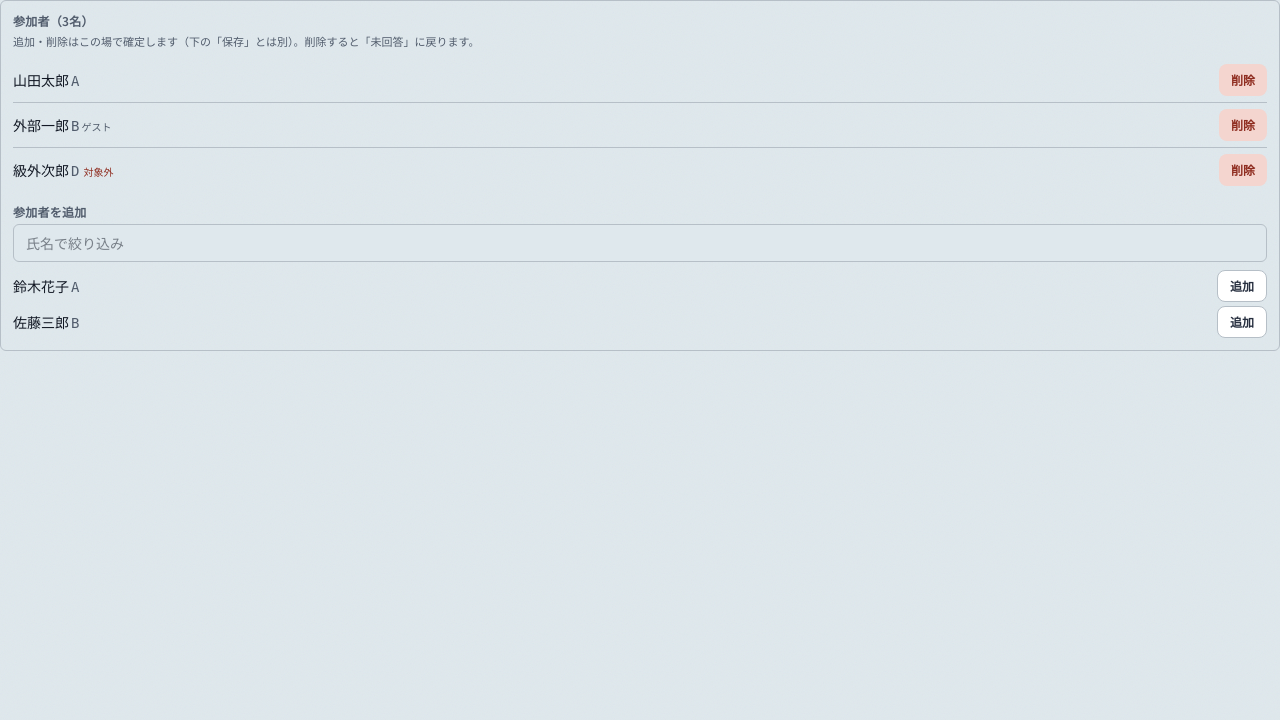
Test: AttendanceEditSection › Server Action が失敗したらエラーメッセージを出す
The width and height of the screenshot is (1280, 720).
Click the button with aria-label "山田太郎 を参加者から削除" at (1243, 80), box [1219,64,1267,96]
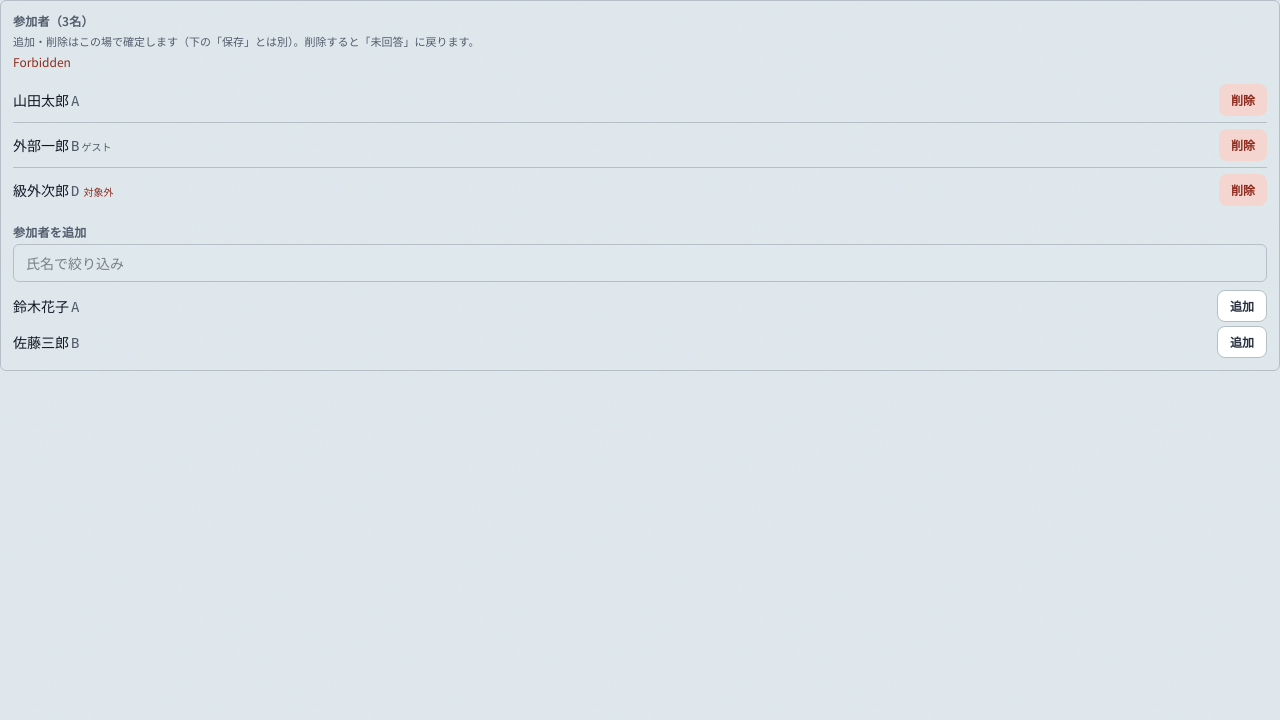
Check: the text "Forbidden" is shown, box [13,53,71,70]
